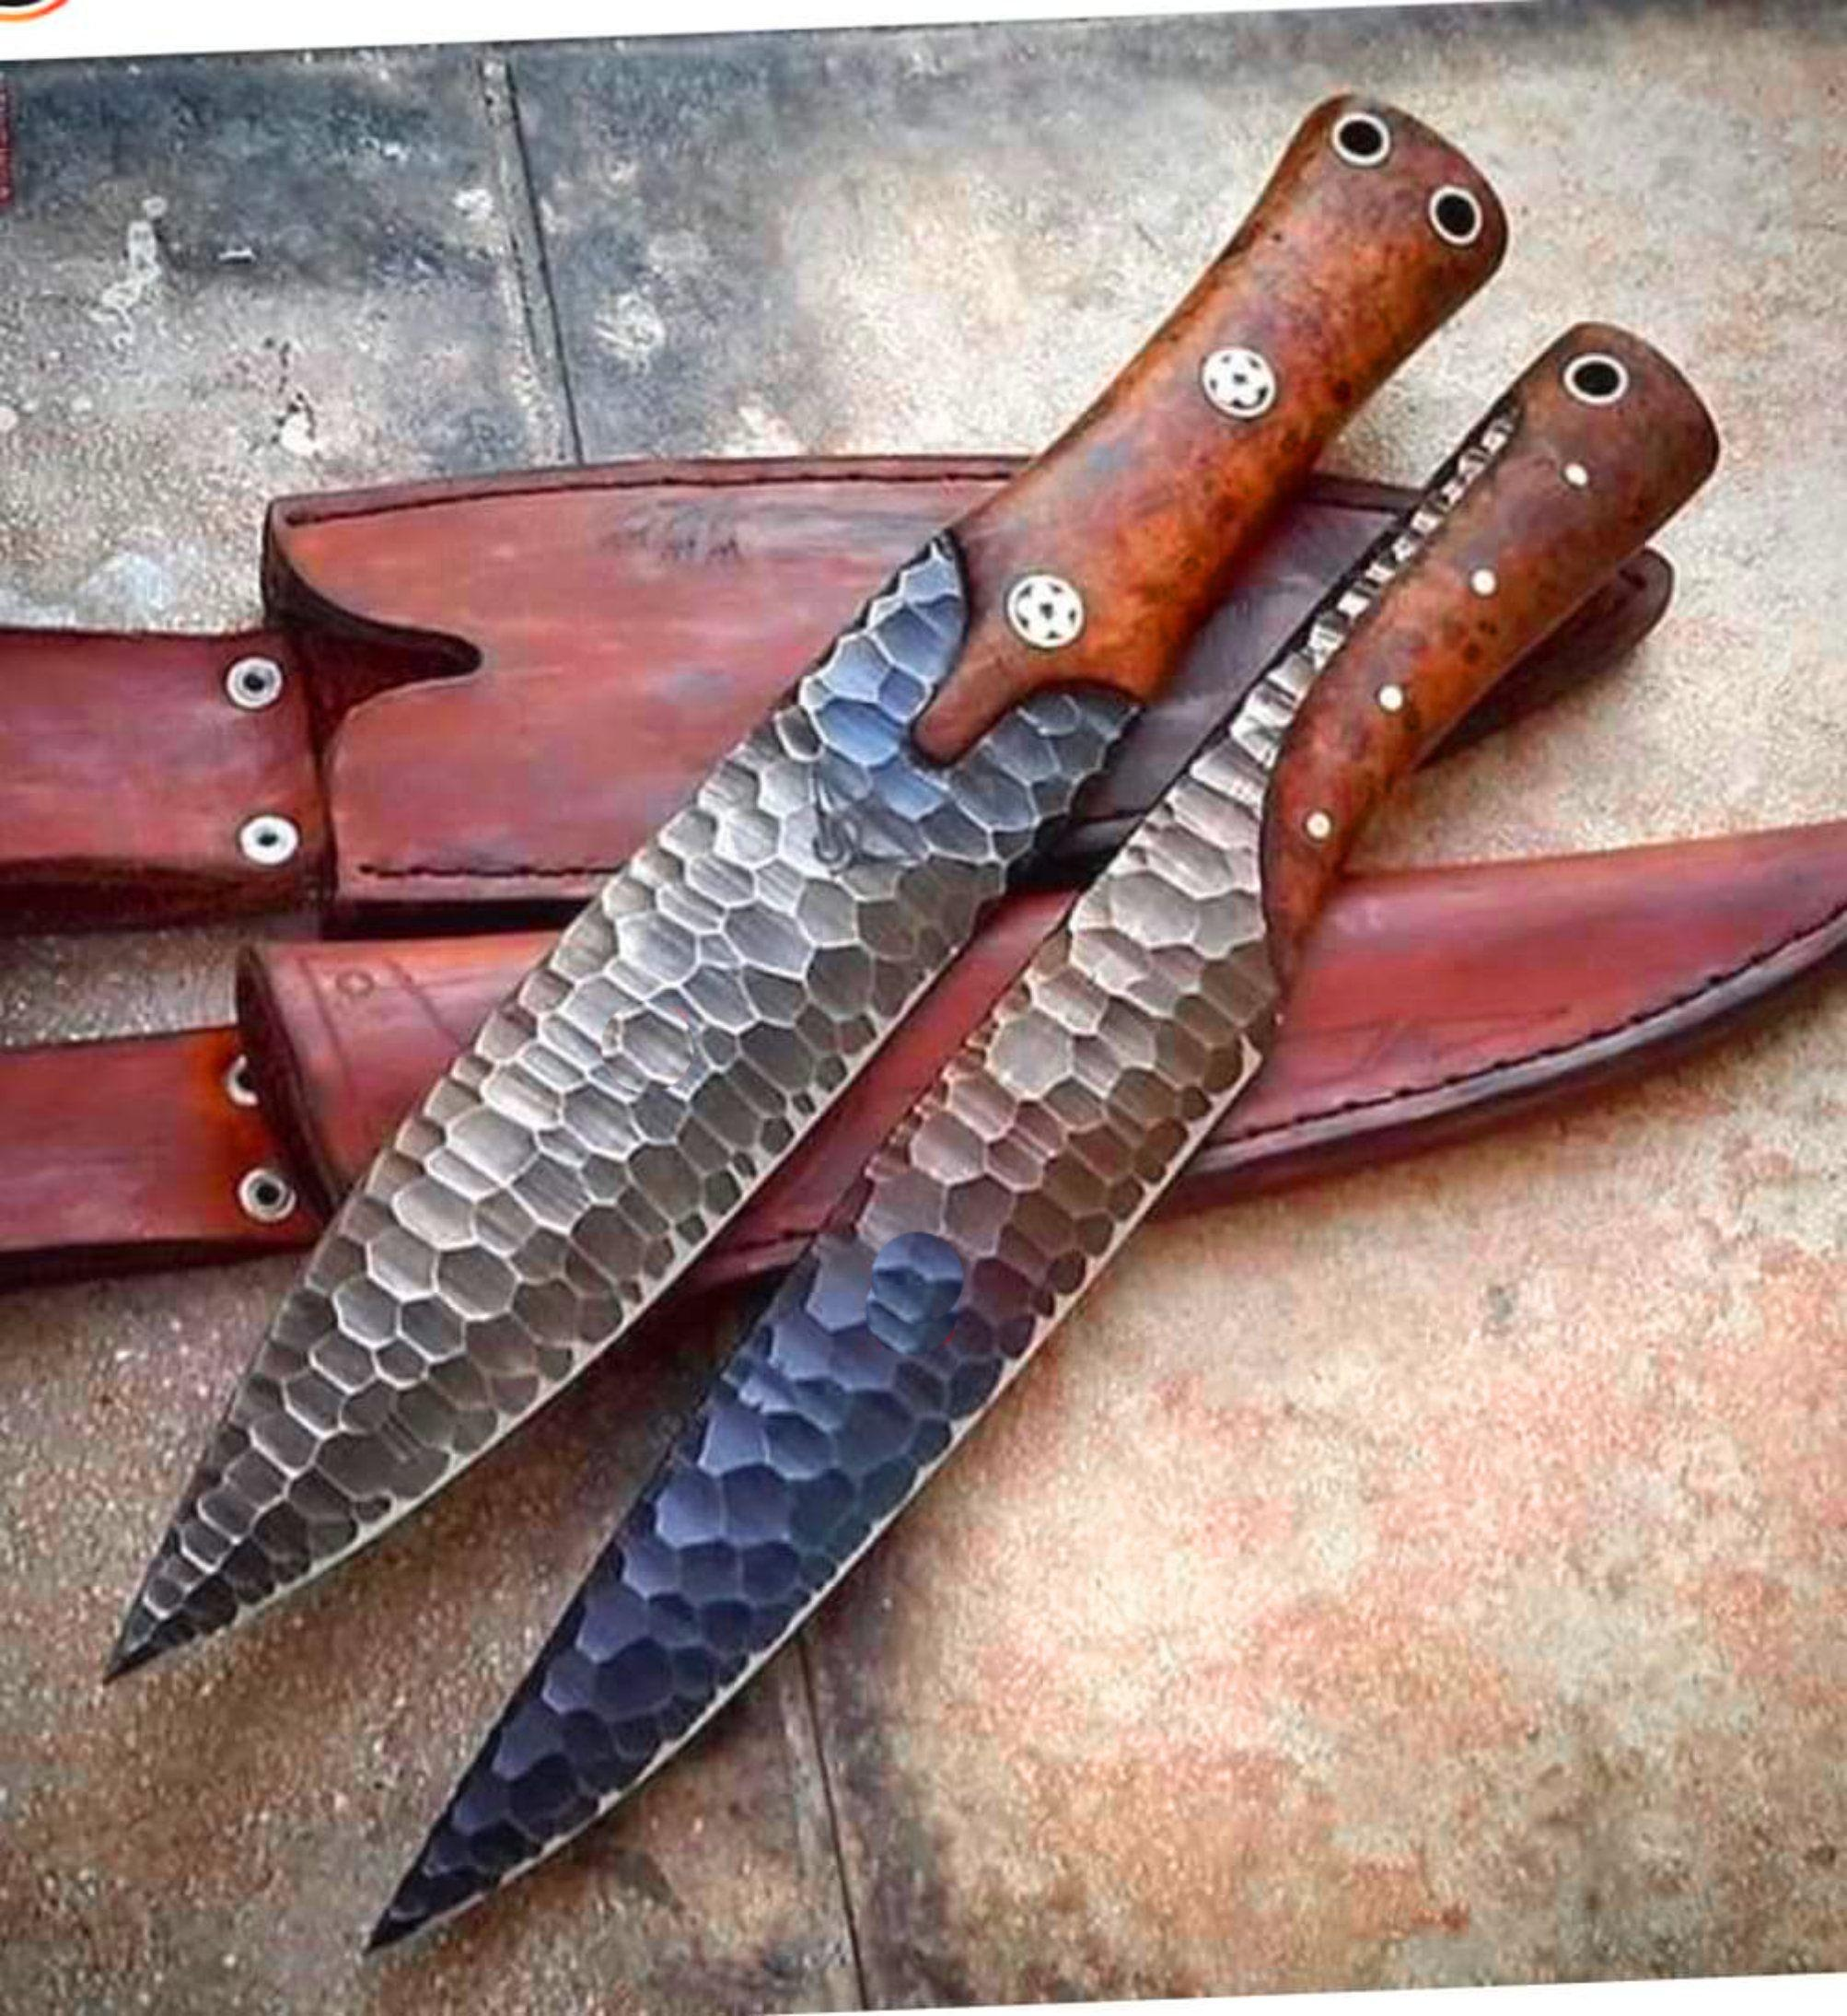faca: (114, 97, 1506, 1674), (370, 325, 1717, 1949)
